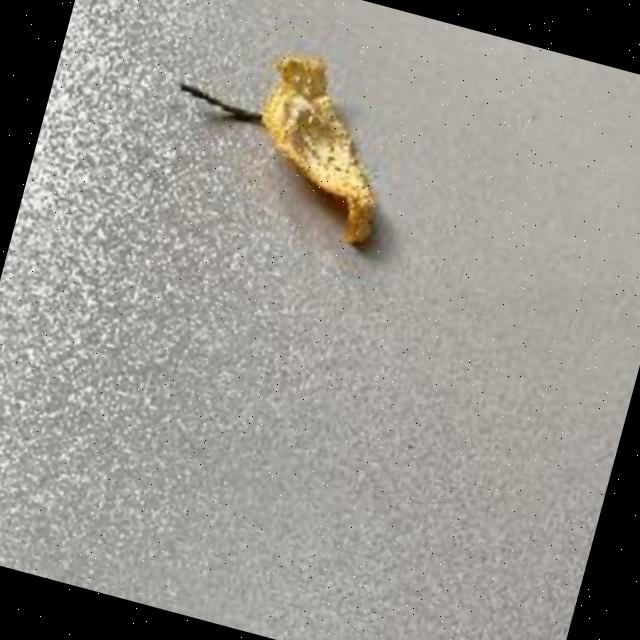orange-peel: (229, 44, 415, 252)
